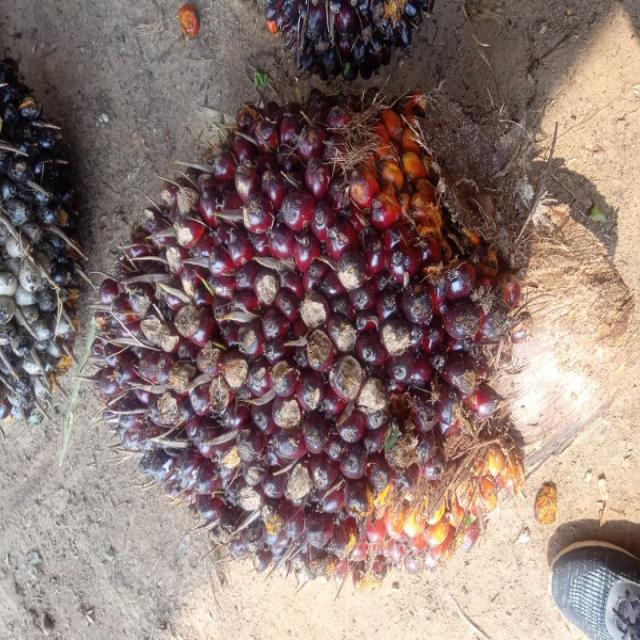fraksi 1: (88, 37, 577, 612)
